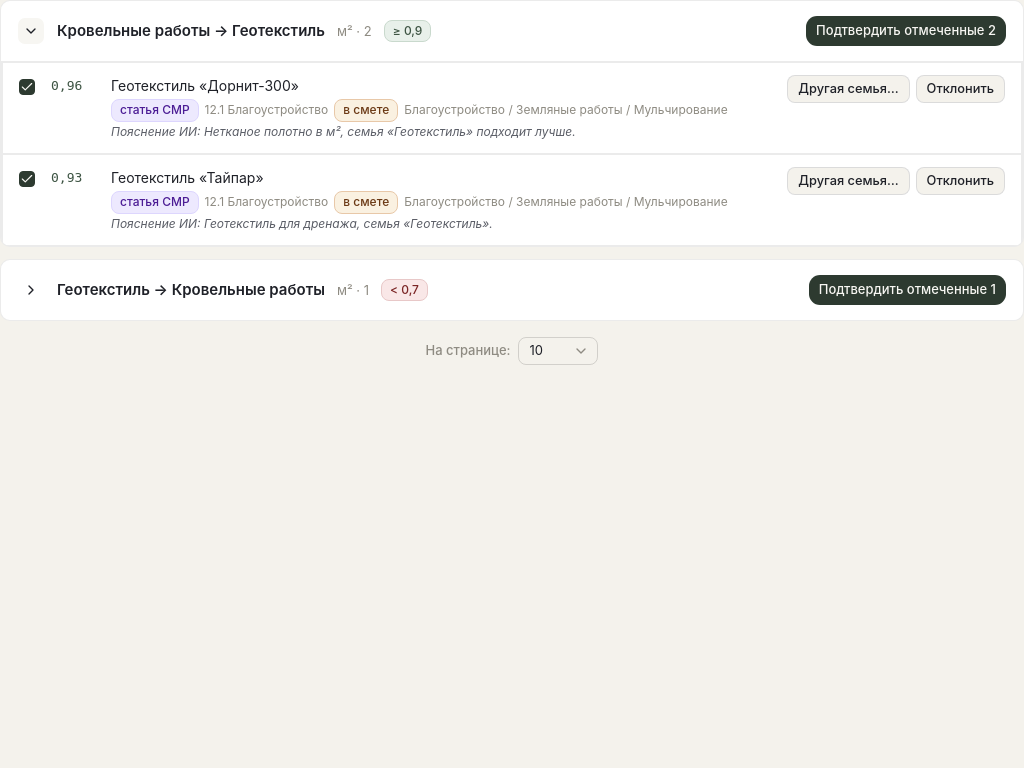
Test case: ChangeQueue › «Отклонить» шлёт отклонение строки
This screenshot has width=1024, height=768.
What coordinates should you click on to do the following:
click the button named "Раскрыть группу" next to "Геотекстиль → Кровельные работы"
I would click on:
 (31, 290)
Its box is x1=17 y1=276 x2=45 y2=304.
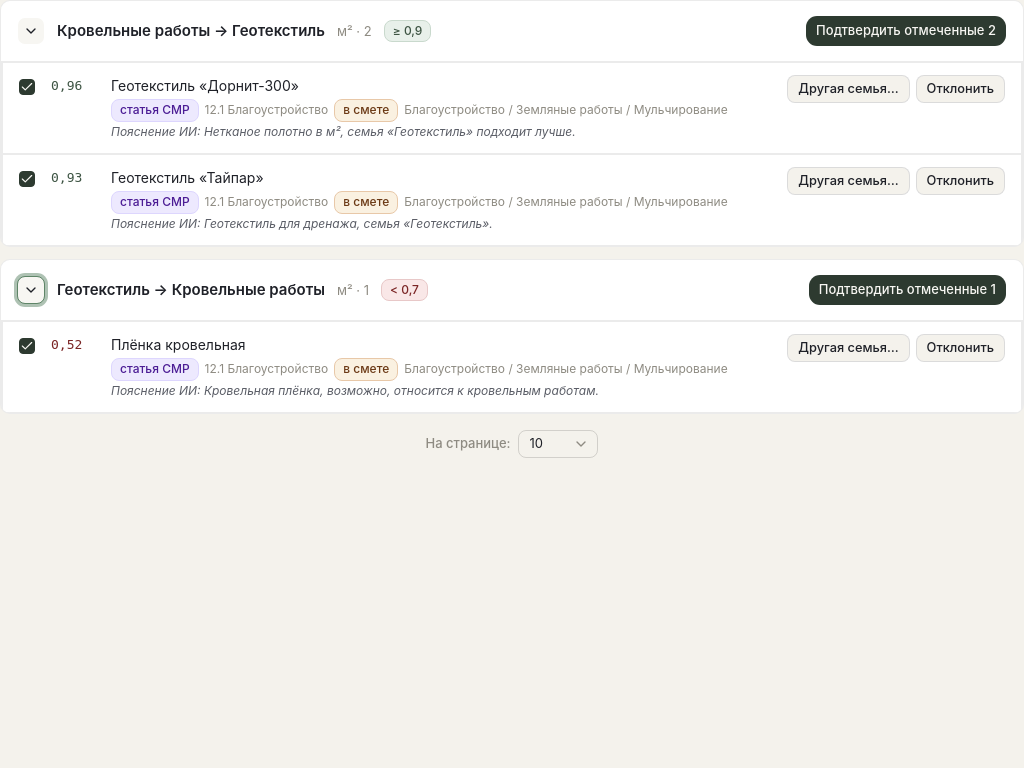
What coordinates should you click on to do the following:
click the button "Отклонить" in the row of "Плёнка кровельная"
I would click on:
 (960, 348)
Its box is x1=916 y1=334 x2=1005 y2=362.
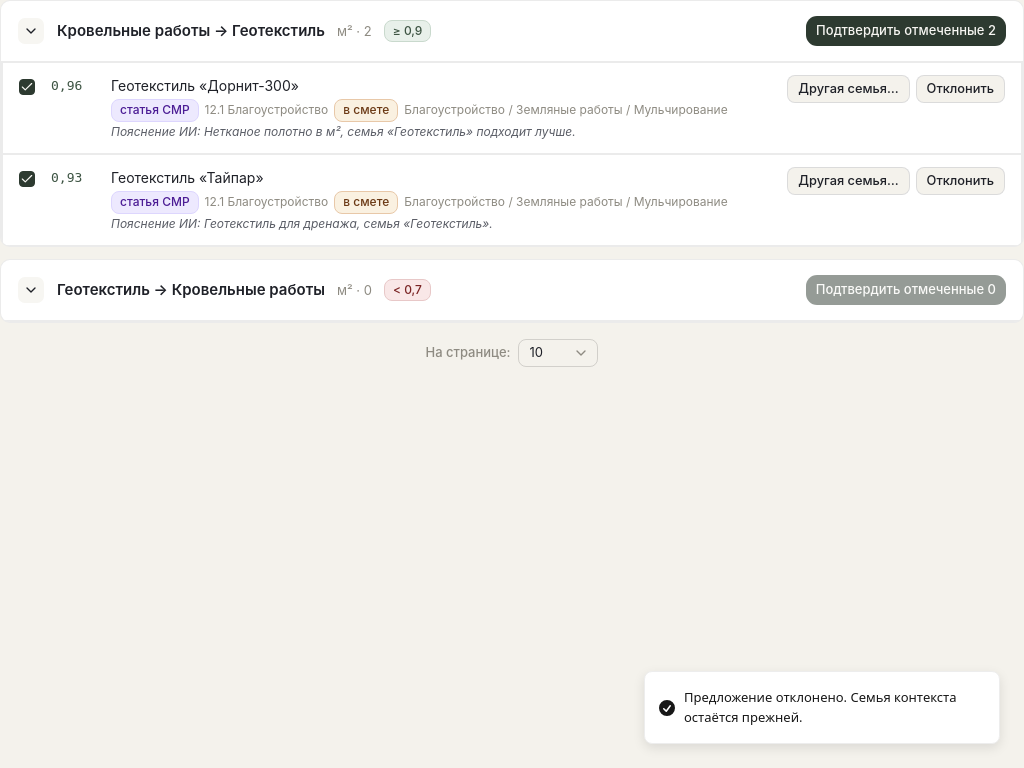
Expected: the text "Предложение отклонено. Семья контекста остаётся прежней." is shown, x1=684 y1=688 x2=983 y2=727
